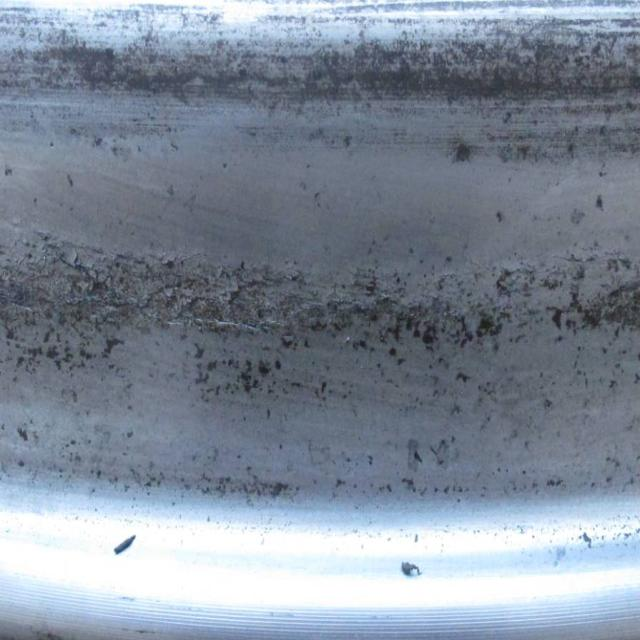Blue hole: (400, 556, 426, 584)
Peeling: (52, 252, 420, 344), (490, 253, 629, 298)
